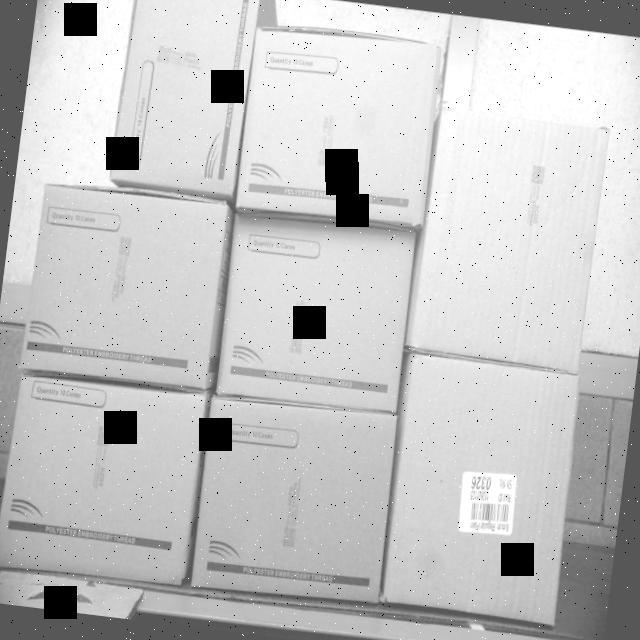box: (373, 342, 588, 626), (409, 97, 617, 370), (0, 364, 207, 588), (189, 392, 403, 608), (211, 205, 417, 424), (26, 177, 234, 389), (233, 25, 442, 224), (104, 0, 255, 197)
